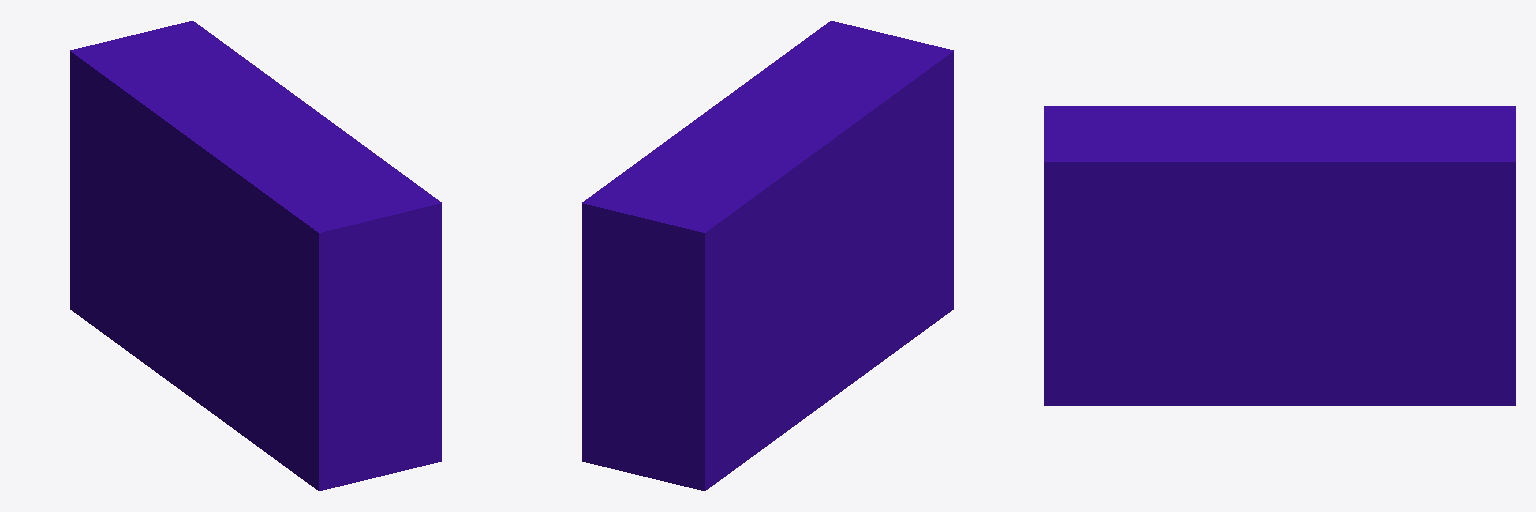
The robot description file, URDF, robot "simple_cube":
<robot name="simple_cube">
  <link name="cube">
    <inertial>
      <mass value="1.0" />
      <!-- center of mass (com) is defined w.r.t. link local coordinate system -->
      <!-- give a little y-offset to make the top precess -->
      <origin xyz="0 0 0" /> 
      <inertia  ixx="1.0" ixy="0.0"  ixz="0.0"  iyy="1.0"  iyz="0.0"  izz="1.0" />
    </inertial>
    <visual>
      <!-- visual origin is defined w.r.t. link local coordinate system -->
      <origin xyz="0 0 0" rpy="0 0 0" />
      <geometry>
        <box size="0.1 0.35 0.2" />
      </geometry>
      <material name="cuby">
        <color rgba="0.3 0.1 0.7 0.4"/>
      </material>
    </visual>
    <collision>
      <!-- collision origin is defined w.r.t. link local coordinate system -->
      <origin xyz="0 0 0" rpy="0 0 0" />
      <geometry>
        <box size="0.1 0.42 0.2" />
      </geometry>
    </collision>
  </link>
  <gazebo reference="cube">
    <mu1>10</mu1>
    <mu2>10</mu2>
    <material>Gazebo/Red</material>
    <turnGravityOff>false</turnGravityOff>
  </gazebo>
</robot>

--- Render facts (derived) ---
3 views of the same robot in one strip: view 1: azimuth 30°, elevation 25°; view 2: azimuth 150°, elevation 25°; view 3: azimuth 270°, elevation 25° (orthographic).
Robot: simple_cube — 1 links, 0 joints (none); root link cube; default pose: every joint at zero.
Links seen in each view (by area): view 1: cube; view 2: cube; view 3: cube.
Link boxes in pixels (x1,y1,x2,y2): cube: [70, 21, 441, 490]; cube: [582, 21, 953, 490]; cube: [1044, 106, 1515, 405].
Bounding box of the posed robot: 0.1 × 0.35 × 0.2 m (x, y, z).
Geometry: primitives only (box / cylinder / sphere), no mesh files.